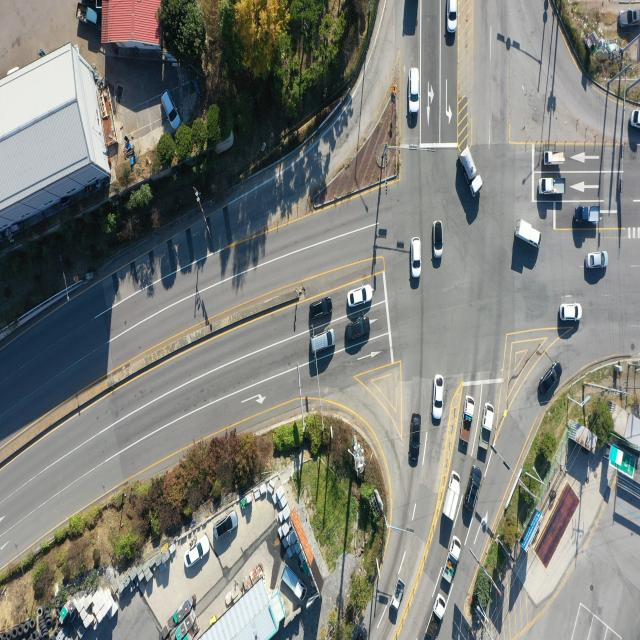car: (162, 90, 182, 131), (184, 538, 209, 570), (464, 467, 481, 512), (410, 412, 422, 466), (345, 320, 370, 345), (310, 331, 336, 355), (215, 511, 237, 539), (348, 284, 372, 307), (310, 299, 334, 321), (433, 375, 444, 422), (410, 68, 421, 114), (411, 239, 423, 280), (586, 250, 608, 268), (560, 304, 582, 322), (432, 220, 442, 259), (619, 9, 640, 26), (448, 0, 458, 33)
medium_truck: (458, 147, 482, 198)
small_truck: (441, 470, 462, 524), (424, 593, 446, 640), (459, 397, 475, 455), (441, 537, 461, 583), (72, 0, 98, 31), (516, 220, 542, 250), (480, 403, 496, 449), (539, 176, 567, 196), (576, 206, 600, 225), (391, 580, 405, 612), (544, 150, 566, 165)
